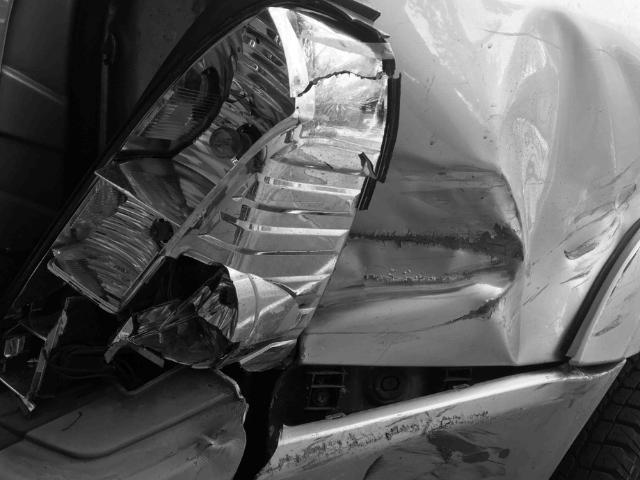Bumper: (0, 360, 620, 480)
Fender: (298, 0, 640, 369)
Light: (0, 0, 417, 414)
